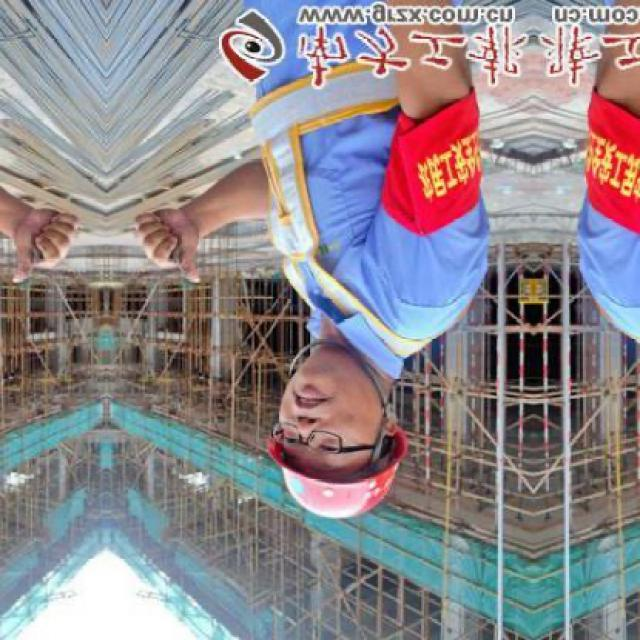safetyhelmet: (264, 379, 417, 518)
